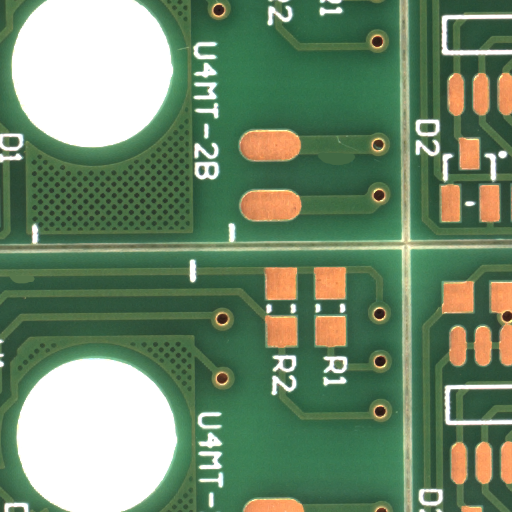Spur: (336, 159, 384, 177), (21, 279, 52, 291)
